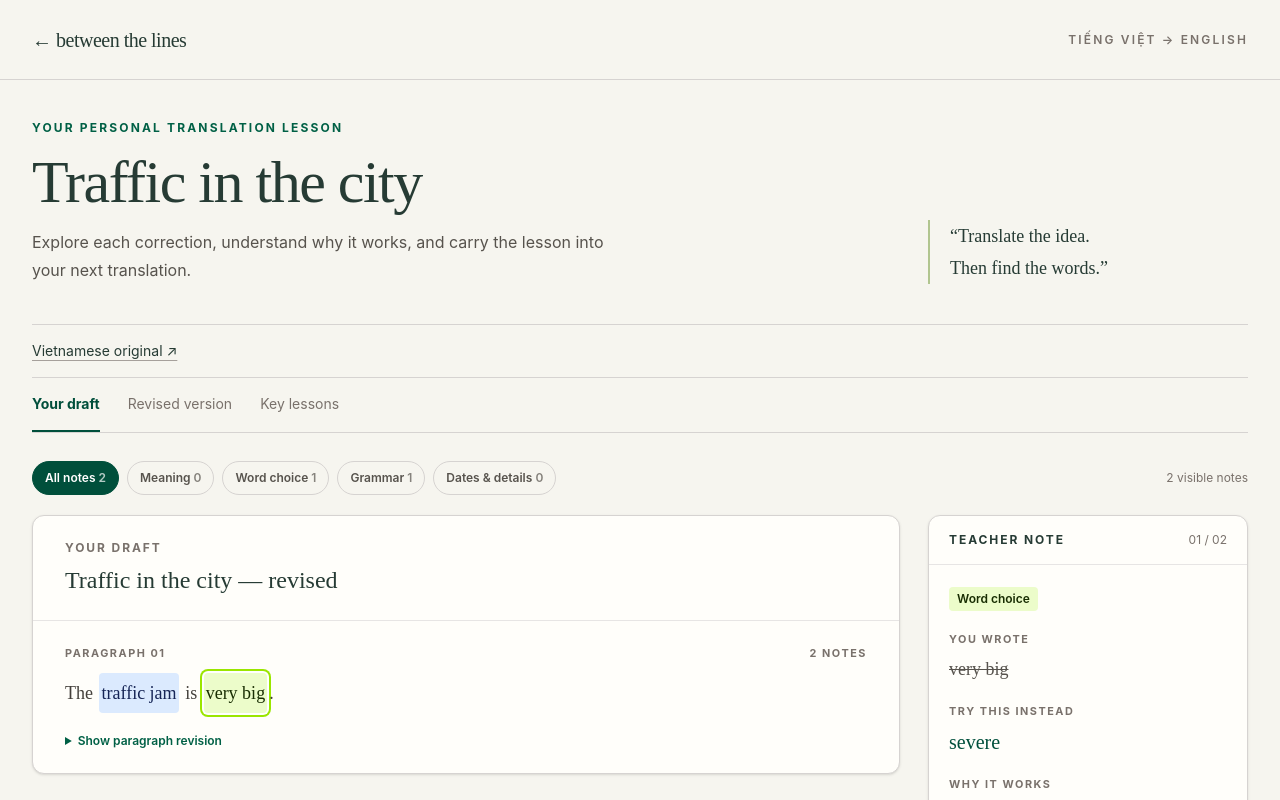
it: category filters select the first matching correction
What coordinates should you click on to do the following:
click the button "Grammar 1"
I would click on:
 (381, 478)
Its box is 337,461 -> 425,495.
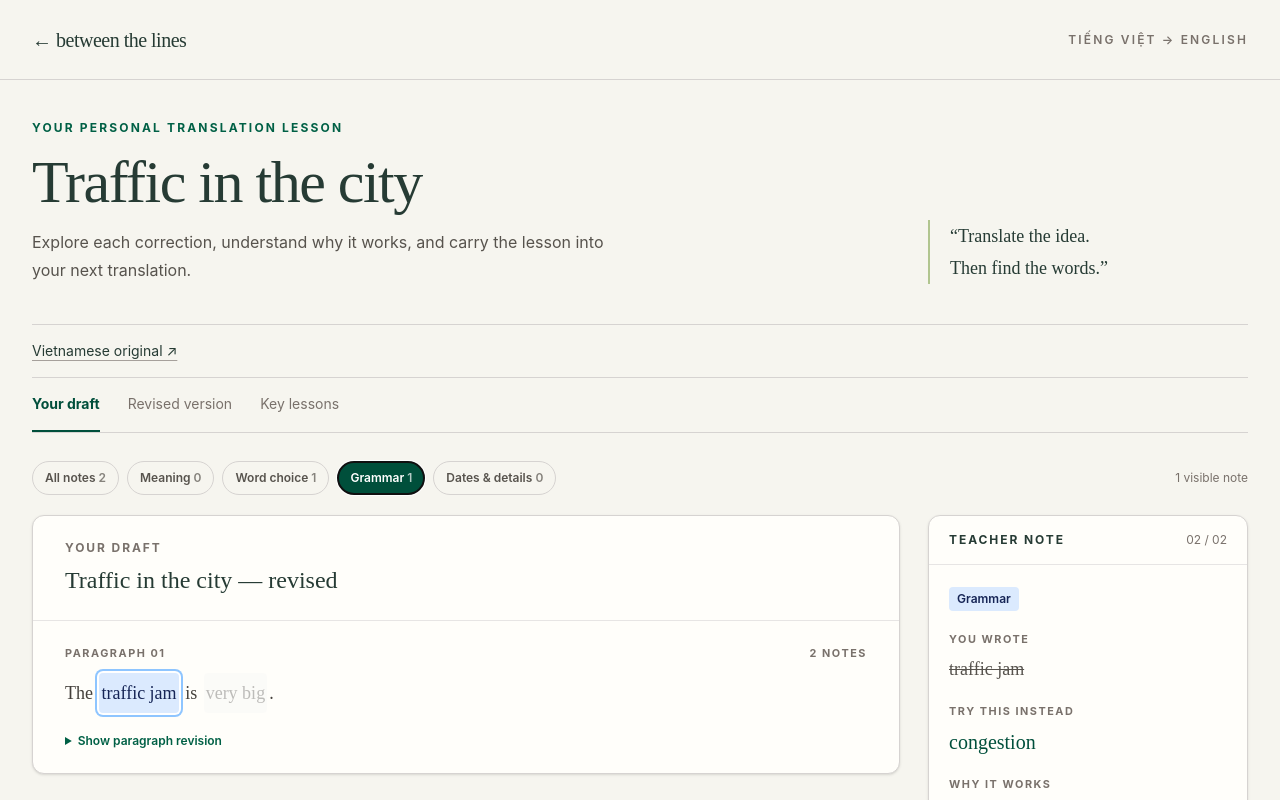
Expected: the text "1 visible note" is shown, 1175,470 -> 1248,486
